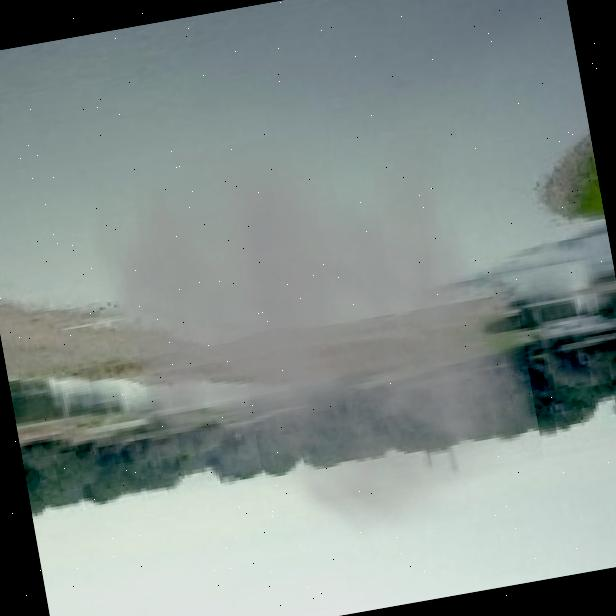smoke: (78, 100, 554, 587)
